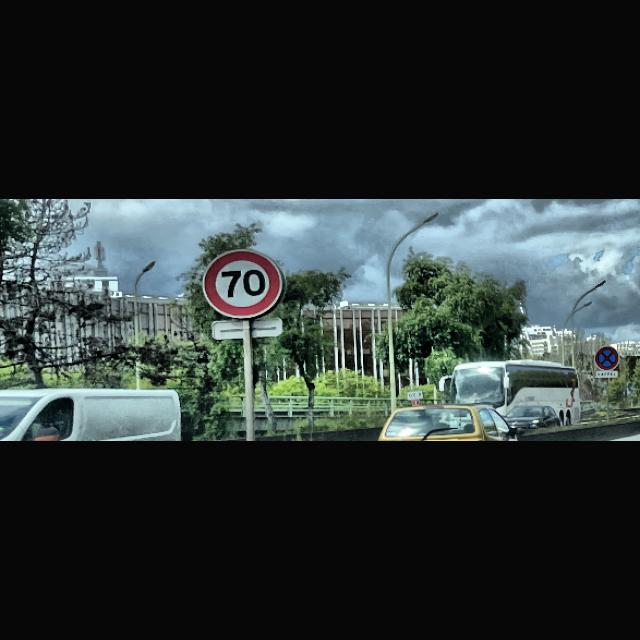speed_70: (202, 250, 284, 320)
